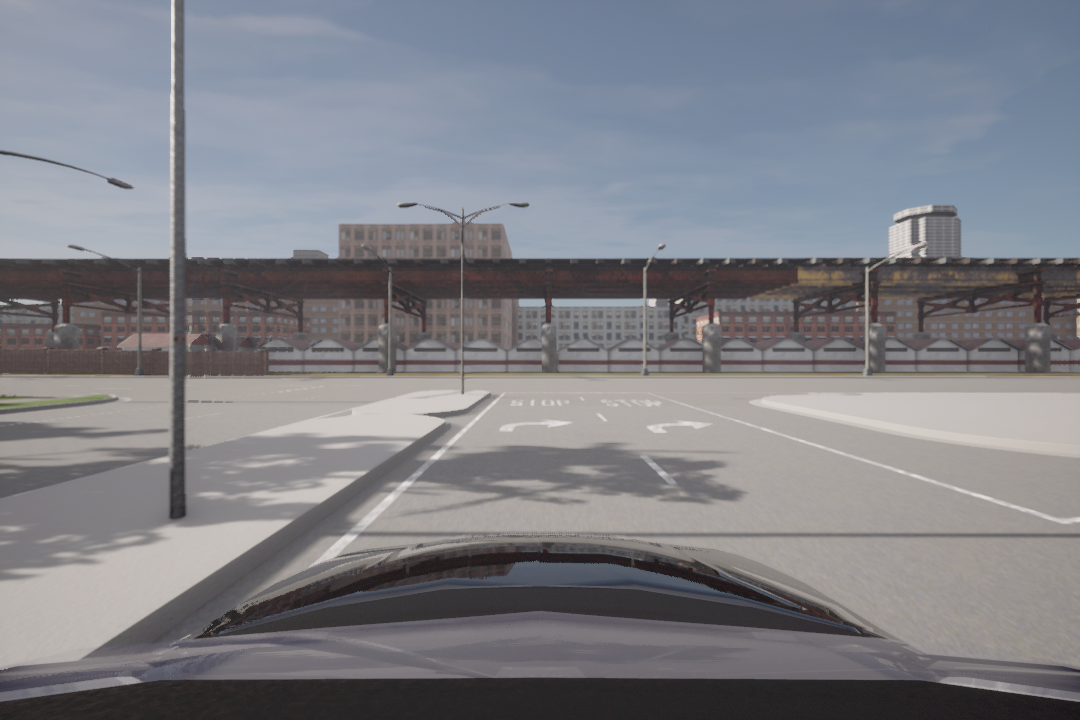RoadSign_right: (501, 413, 573, 437), (639, 417, 722, 435)
